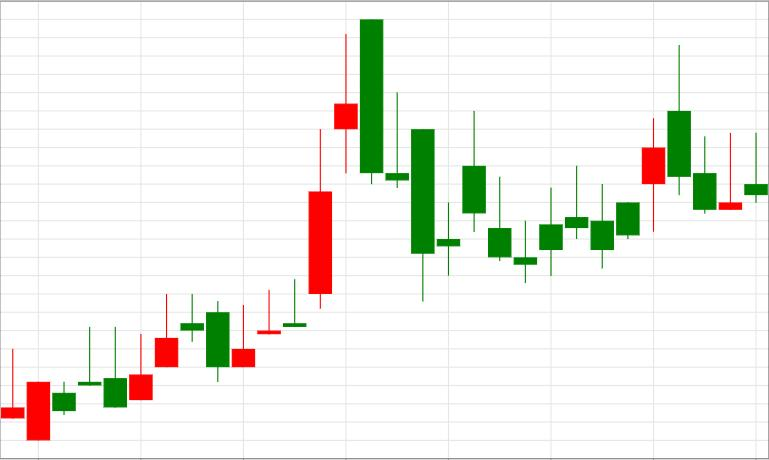bearish_engulfing_fall: (129, 19, 383, 400)
